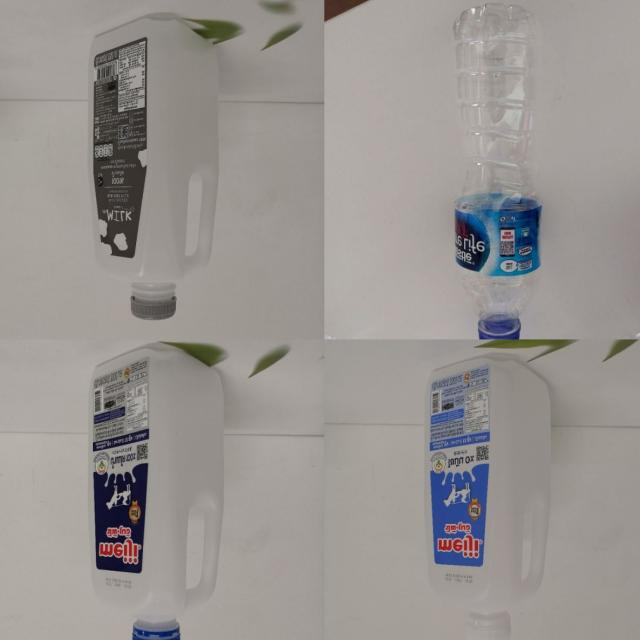plastik: (88, 343, 223, 640), (90, 19, 218, 321), (425, 359, 551, 640), (454, 6, 542, 339)
